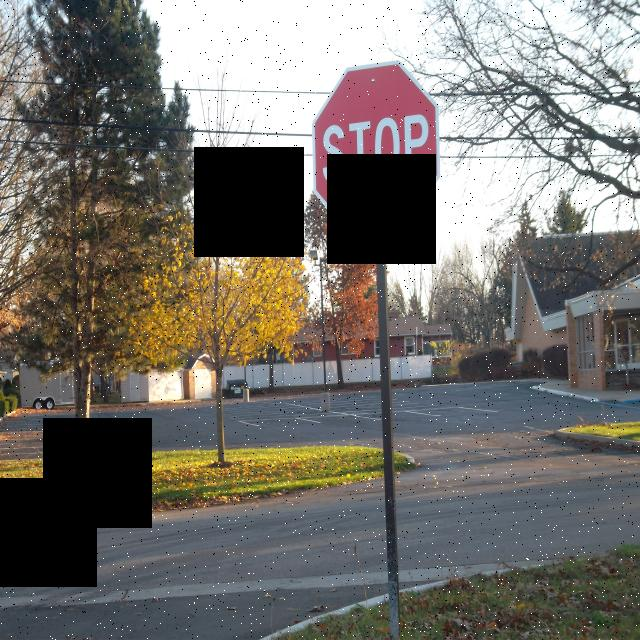stop: (310, 56, 445, 240)
